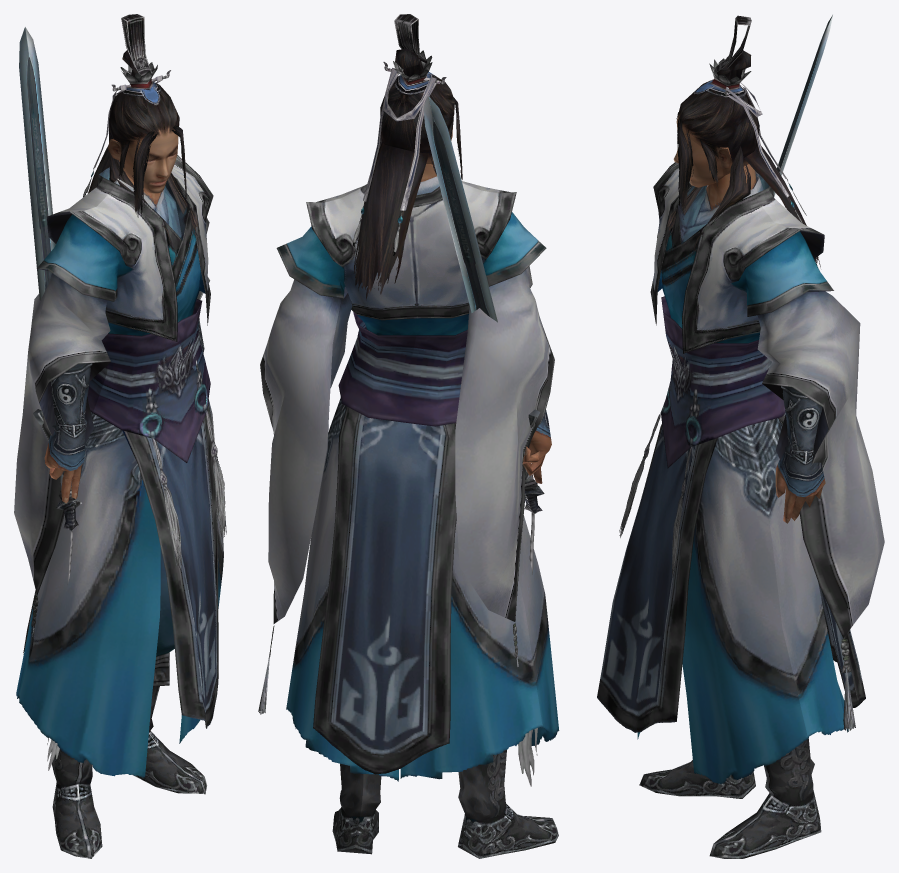
Rendered from sword_man2.FBX.
3 views of the same model, side by side, from view 1: azimuth 30°, elevation 25°; view 2: azimuth 150°, elevation 25°; view 3: azimuth 270°, elevation 25° (orthographic). The views are drawn at different scales.
Parts seen in each view (by area): view 1: DrawCall_0532, DrawCall_0535, DrawCall_0534, DrawCall_0533, DrawCall_0537, DrawCall_0536, DrawCall_0283, DrawCall_0540, DrawCall_0539; view 2: DrawCall_0532, DrawCall_0535, DrawCall_0534, DrawCall_0537, DrawCall_0533, DrawCall_0538, DrawCall_0536; view 3: DrawCall_0532, DrawCall_0535, DrawCall_0534, DrawCall_0537, DrawCall_0536, DrawCall_0539, DrawCall_0283, DrawCall_0538, DrawCall_0533, DrawCall_0540.
Part boxes in pixels (x1=…): DrawCall_0532: x1=14, y1=155, x2=223, y2=777; DrawCall_0535: x1=87, y1=299, x2=226, y2=568; DrawCall_0534: x1=52, y1=548, x2=206, y2=858; DrawCall_0533: x1=19, y1=27, x2=81, y2=770; DrawCall_0537: x1=83, y1=14, x2=179, y2=197; DrawCall_0536: x1=44, y1=318, x2=204, y2=503; DrawCall_0283: x1=107, y1=136, x2=178, y2=193; DrawCall_0540: x1=132, y1=125, x2=186, y2=217; DrawCall_0539: x1=109, y1=134, x2=199, y2=247; DrawCall_0532: x1=258, y1=164, x2=559, y2=781; DrawCall_0535: x1=338, y1=311, x2=467, y2=426; DrawCall_0534: x1=332, y1=749, x2=558, y2=858; DrawCall_0537: x1=353, y1=14, x2=454, y2=256; DrawCall_0533: x1=423, y1=96, x2=544, y2=786; DrawCall_0538: x1=353, y1=142, x2=429, y2=300; DrawCall_0536: x1=273, y1=410, x2=551, y2=483; DrawCall_0532: x1=597, y1=162, x2=884, y2=783; DrawCall_0535: x1=619, y1=296, x2=785, y2=577; DrawCall_0534: x1=639, y1=738, x2=821, y2=858; DrawCall_0537: x1=676, y1=15, x2=806, y2=223; DrawCall_0536: x1=775, y1=386, x2=825, y2=523; DrawCall_0539: x1=665, y1=146, x2=750, y2=255; DrawCall_0283: x1=673, y1=128, x2=731, y2=187; DrawCall_0538: x1=744, y1=144, x2=820, y2=267; DrawCall_0533: x1=773, y1=15, x2=832, y2=197; DrawCall_0540: x1=676, y1=112, x2=693, y2=219.
Size of the model in its own units: 126 by 426 by 141.
